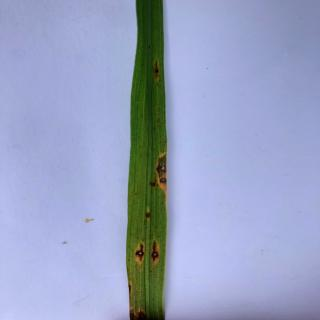Blast: (154, 149, 168, 195), (147, 238, 166, 265), (151, 56, 164, 84), (128, 302, 148, 320), (132, 242, 146, 267), (141, 203, 155, 222), (126, 280, 135, 297)
